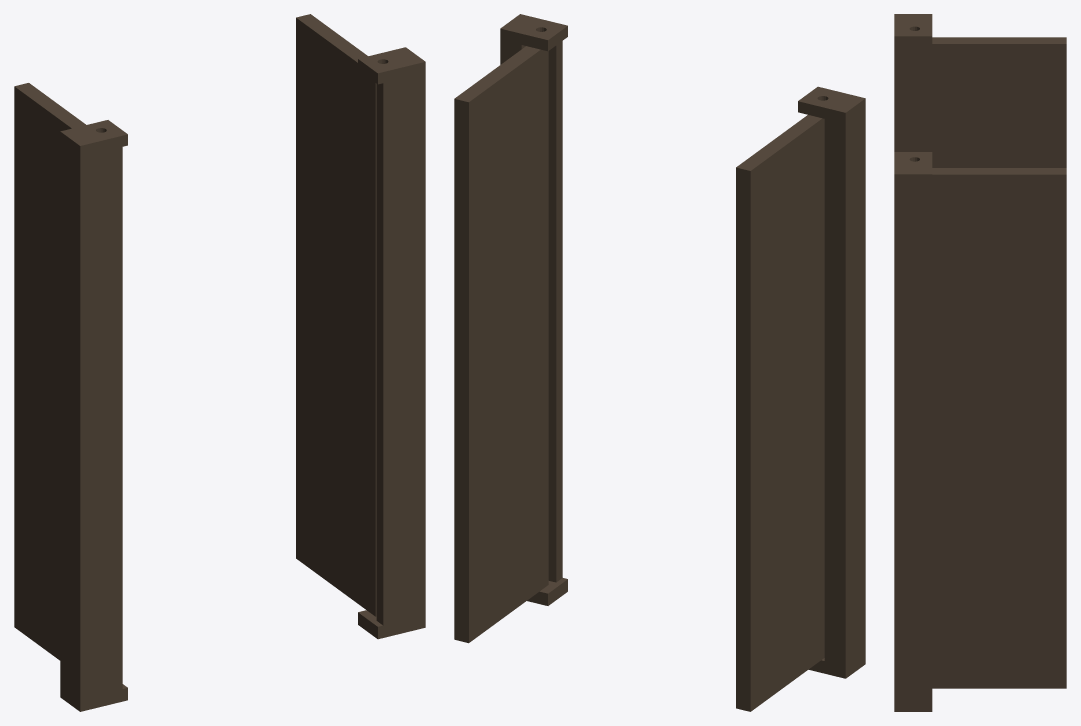
File: paired-door-LOD2.glb
3 renders of one model, left to right at view 1: azimuth 30°, elevation 25°; view 2: azimuth 150°, elevation 25°; view 3: azimuth 270°, elevation 25°, orthographic. The views are drawn at different scales.
Parts seen in each view (by area): view 1: paired-door_timber; view 2: paired-door_timber; view 3: paired-door_timber.
Part boxes in pixels (left/top/right/bottom): paired-door_timber: left=14, top=14, right=425, bottom=711; paired-door_timber: left=454, top=14, right=865, bottom=711; paired-door_timber: left=894, top=14, right=1066, bottom=711.
Size of the model in its own units: 1.3 by 2.04 by 0.59.
